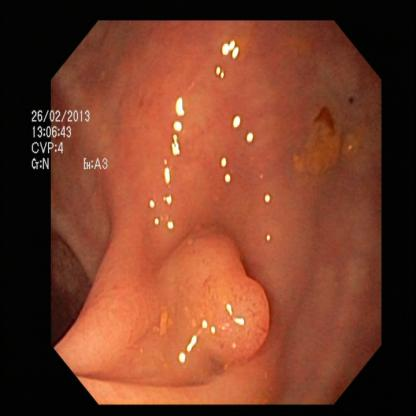Labels: (23, 92, 113, 178)
Polyps: (164, 223, 271, 373)
